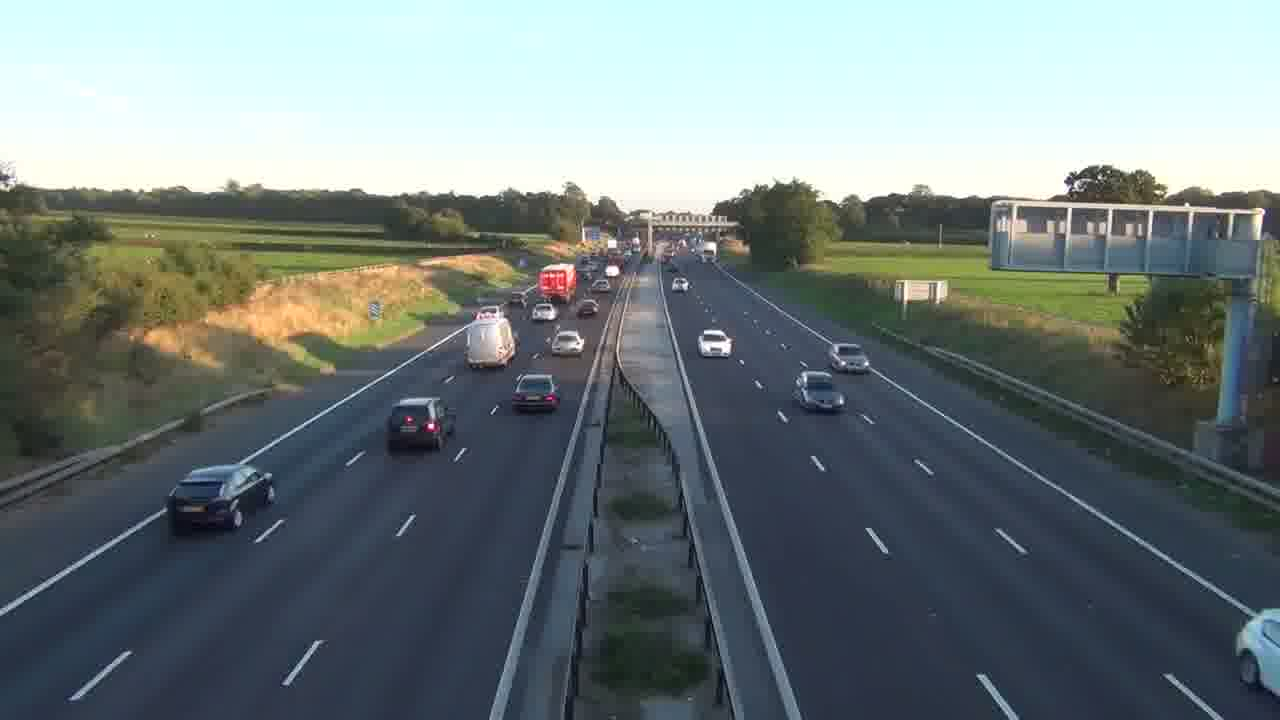car: (166, 462, 276, 535), (1234, 608, 1279, 698), (385, 396, 449, 451), (793, 369, 846, 413), (511, 371, 560, 414), (826, 341, 870, 375), (697, 328, 734, 357), (551, 329, 585, 357), (576, 298, 599, 317)
truck: (464, 317, 517, 370)
